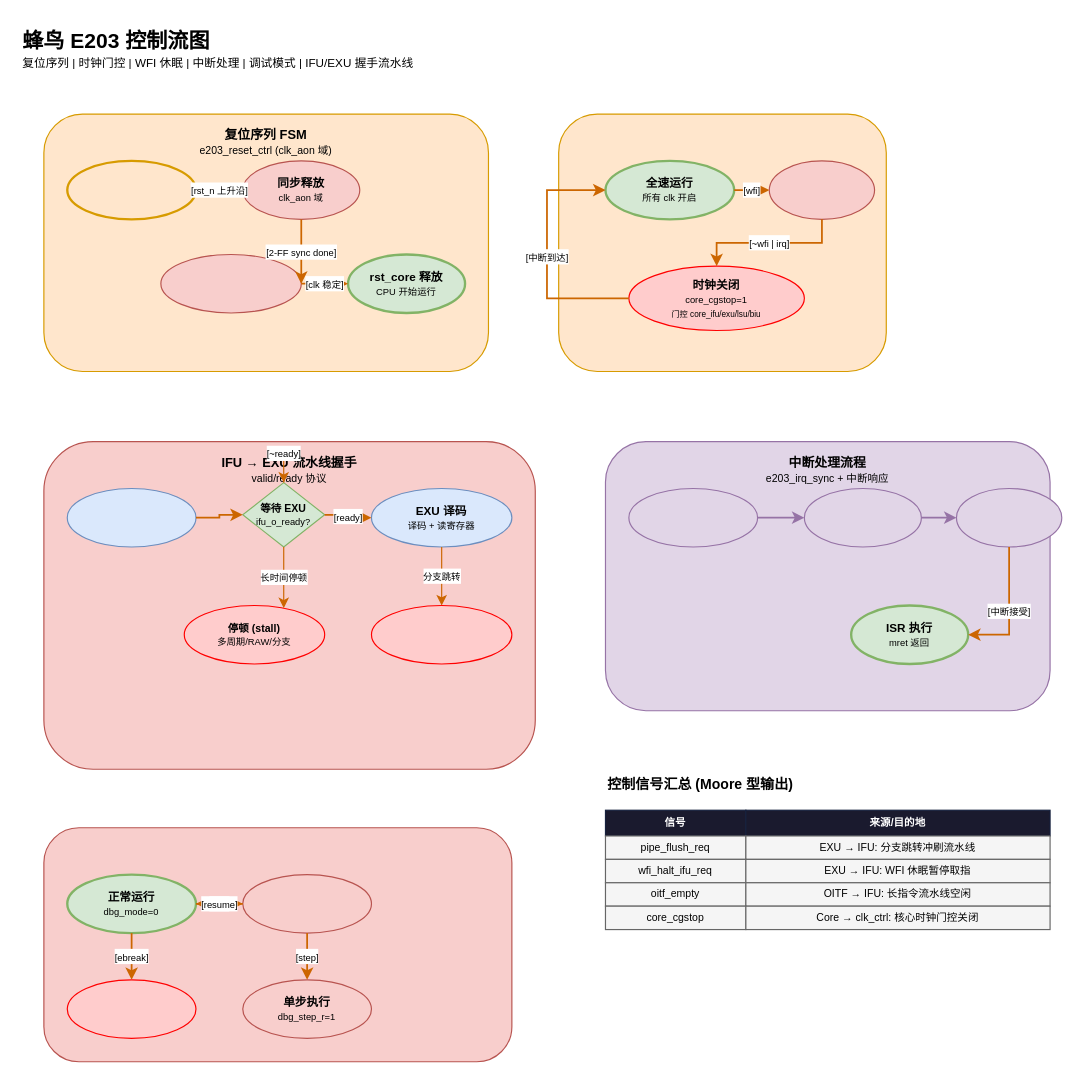
The diagram is 1082 pixels wide and 1082 high, and some of its shapes have lost their labels. The shapes that lost their labels are listed below. From the top down, each one's box as (x1, y1, x2, y2) in pixels, then its label:
(66, 159, 197, 220): 上电复位 rst_n=0 (异步)
(768, 160, 875, 219): WFI 休眠 core_wfi=1
(558, 113, 886, 371): 时钟门控控制 e203_clk_ctrl (clk_aon 域)
(160, 253, 301, 313): rst_aon 释放 clk_ctrl 启动
(66, 487, 196, 547): IFU 取指 ifu_o_valid=1
(628, 487, 758, 547): 等待中断 ext/sft/tmr irq
(803, 487, 921, 547): 同步 (2-FF) irq_sync
(955, 487, 1062, 547): CPU 响应 mtvec 跳转
(370, 604, 512, 664): 流水线冲刷 pipe_flush_req
(242, 873, 371, 933): 调试暂停 dbg_halt_r=1
(43, 827, 512, 1062): 调试模式状态机 halt / step / ebreak
(66, 979, 196, 1038): 断点触发 ebreak / ebreakm
